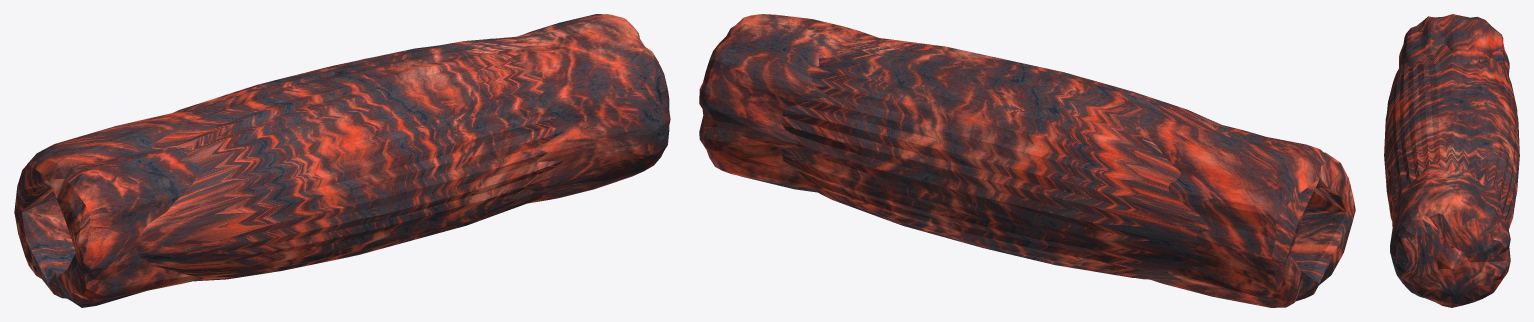
Rendered from organismo.obj.
3 renders of one model, left to right at view 1: azimuth 30°, elevation 25°; view 2: azimuth 150°, elevation 25°; view 3: azimuth 270°, elevation 25°, orthographic. The views are drawn at different scales.
Parts seen in each view (by area): view 1: cuerpo_Cilindro; view 2: cuerpo_Cilindro; view 3: cuerpo_Cilindro.
Boxes of the visible parts, bbox=[...] form: cuerpo_Cilindro: bbox=[14, 14, 670, 307]; cuerpo_Cilindro: bbox=[699, 14, 1355, 307]; cuerpo_Cilindro: bbox=[1384, 14, 1519, 307].
Bounding box in the file's own units: 53.18 × 14.06 × 14.38.
1 material, 1 textured.
